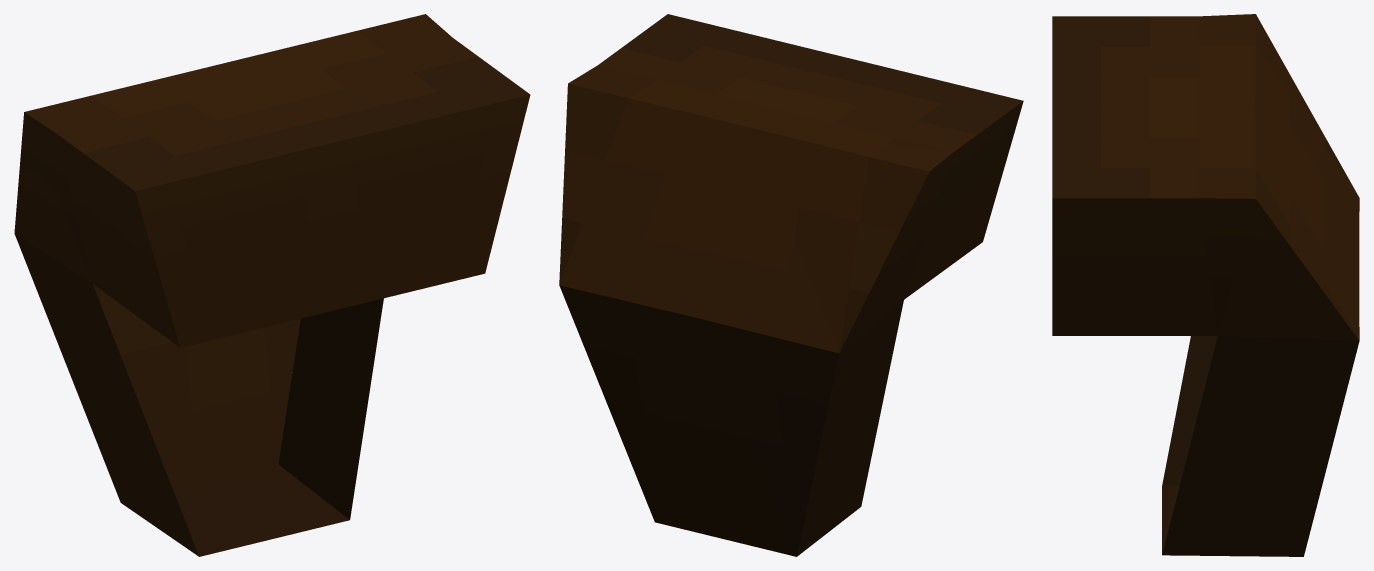
Rendered from MilkywayChevronUpperBack.obj.
The picture shows the model from 3 angles, left to right: view 1: azimuth 30°, elevation 25°; view 2: azimuth 150°, elevation 25°; view 3: azimuth 270°, elevation 25°; orthographic projection. The views are drawn at different scales.
Visible parts, largest first — view 1: UpperChevronBack; view 2: UpperChevronBack; view 3: UpperChevronBack.
Part boxes in pixels (bbox=[...]): UpperChevronBack: bbox=[14, 14, 530, 556]; UpperChevronBack: bbox=[559, 14, 1023, 556]; UpperChevronBack: bbox=[1052, 14, 1359, 556].
Size of the model in its own units: 0.2597 by 0.2715 by 0.1823.
1 material, 1 textured.
